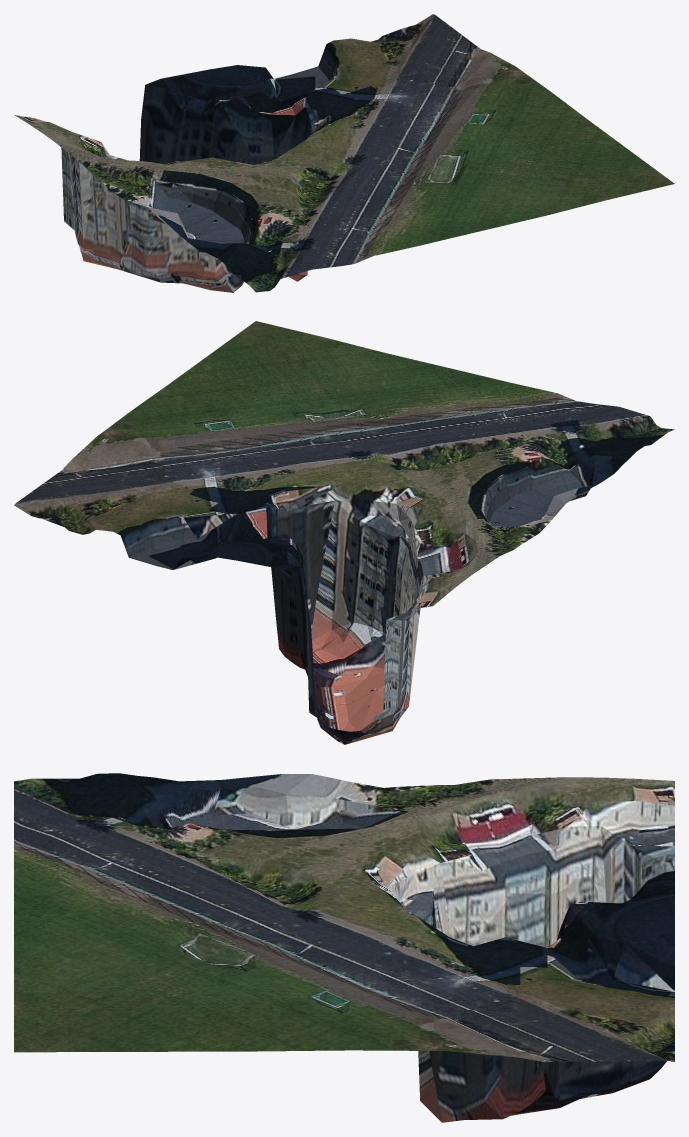
Rendered from map_15_8182_13791.dae.
The picture shows the model from 3 angles, top to bottom: view 1: azimuth 30°, elevation 25°; view 2: azimuth 150°, elevation 25°; view 3: azimuth 270°, elevation 25°; orthographic projection. The views are drawn at different scales.
Parts seen in each view (by area): view 1: Ter0; view 2: Ter0; view 3: Ter0.
Boxes of the visible parts, x1=… form: Ter0: x1=14, y1=14, x2=674, y2=292; Ter0: x1=14, y1=321, x2=674, y2=744; Ter0: x1=14, y1=773, x2=674, y2=1122.
Bounding box in the file's own units: 63.88 × 63.88 × 25.6.
Materials: 3 (3 with a texture image).
